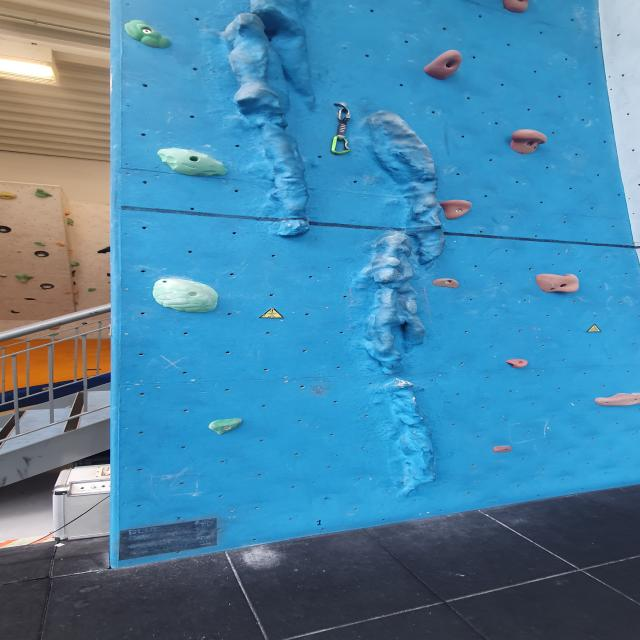Crimp: (127, 19, 169, 48), (207, 417, 247, 437), (429, 276, 461, 291), (502, 356, 532, 369), (489, 444, 516, 456)
Jug: (528, 268, 583, 295), (420, 50, 462, 82), (508, 129, 550, 156), (592, 388, 640, 410), (438, 200, 473, 222), (499, 0, 534, 15), (12, 274, 34, 285), (34, 188, 55, 198), (0, 190, 19, 200), (96, 245, 112, 255), (64, 217, 78, 228)
Pinch: (32, 242, 46, 248)
Pocket: (38, 282, 56, 290), (33, 251, 51, 257), (0, 225, 13, 232), (55, 241, 65, 247)
Sloper: (149, 276, 223, 314), (156, 145, 232, 180), (70, 260, 82, 268)
